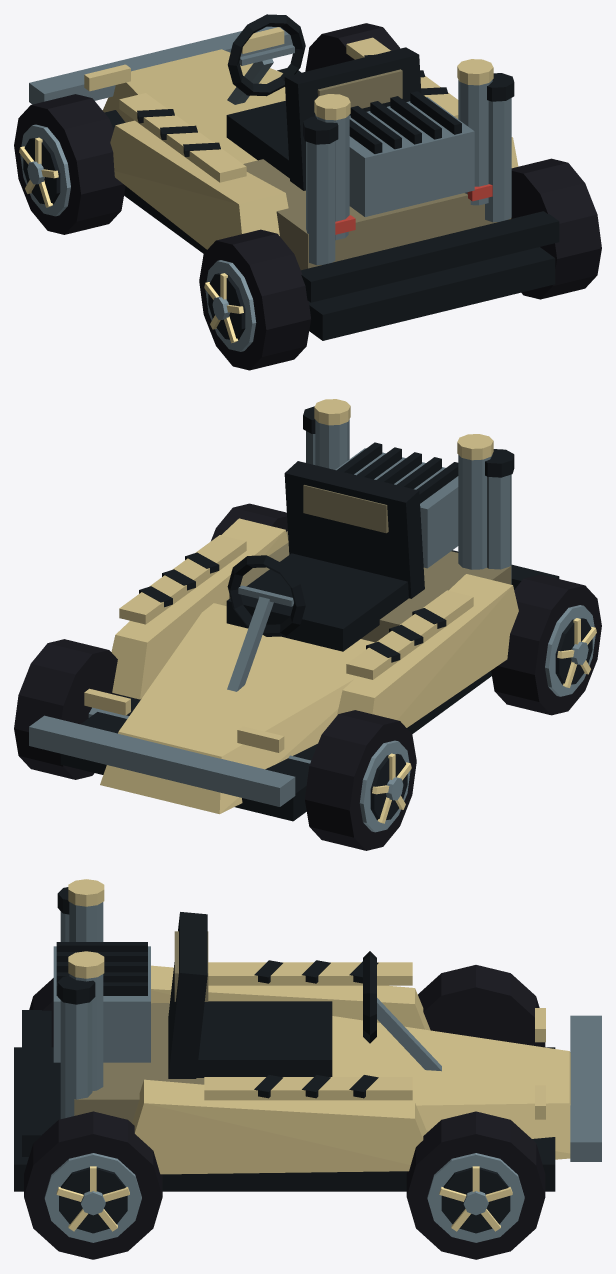
Rendered from kart.glb.
3 renders of one model, top to bottom at view 1: azimuth 30°, elevation 25°; view 2: azimuth 150°, elevation 25°; view 3: azimuth 270°, elevation 25°, orthographic. The views are drawn at different scales.
Visible parts, largest first — view 1: chassis, wheel-rear-left, wheel-front-left, wheel-rear-right, wheel-front-right; view 2: chassis, wheel-front-left, wheel-rear-left, wheel-front-right, wheel-rear-right; view 3: chassis, wheel-front-right, wheel-rear-right, wheel-front-left, wheel-rear-left.
Part boxes in pixels (<box>): chassis: <box>29,14,559,340</box>; wheel-rear-left: <box>199,229,310,370</box>; wheel-front-left: <box>14,94,125,234</box>; wheel-rear-right: <box>511,158,601,299</box>; wheel-front-right: <box>305,23,400,71</box>; chassis: <box>29,399,559,821</box>; wheel-front-left: <box>305,710,416,850</box>; wheel-rear-left: <box>491,574,601,715</box>; wheel-front-right: <box>14,639,119,779</box>; wheel-rear-right: <box>211,503,287,540</box>; chassis: <box>14,879,601,1191</box>; wheel-front-right: <box>406,1111,545,1259</box>; wheel-rear-right: <box>24,1111,162,1259</box>; wheel-front-left: <box>418,965,545,1047</box>; wheel-rear-left: <box>29,978,53,1047</box>.
Size of the model in its own units: 2.19 by 1.4 by 2.97.
